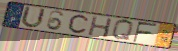6: (46, 10, 66, 32)
C: (67, 14, 89, 35)
F: (132, 22, 159, 44)
H: (87, 15, 114, 39)
Q: (110, 19, 135, 42)
U: (19, 5, 47, 29)
